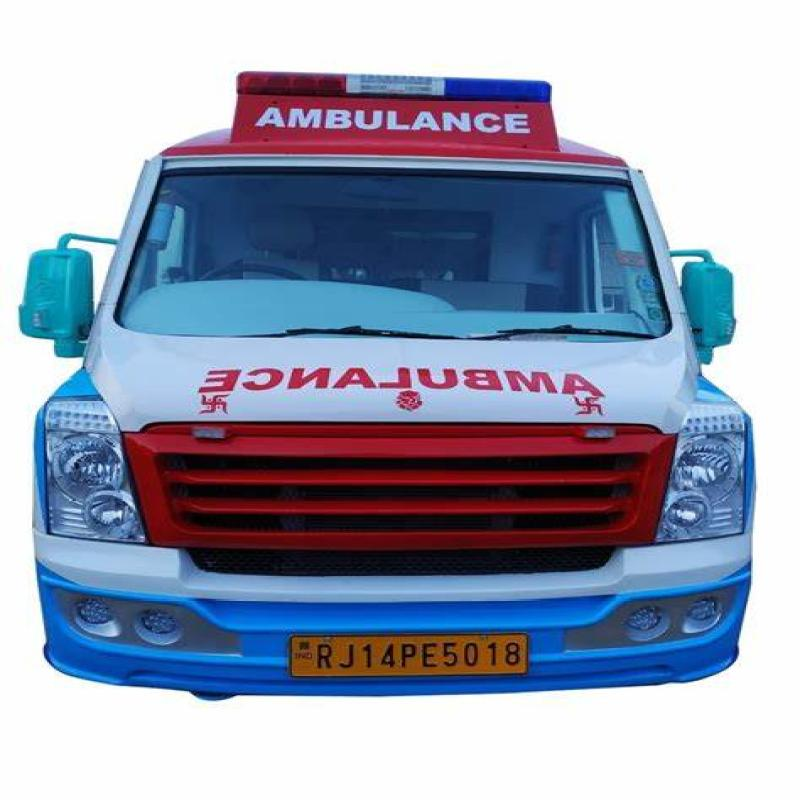AmbulanceSiren: (176, 31, 593, 117)
